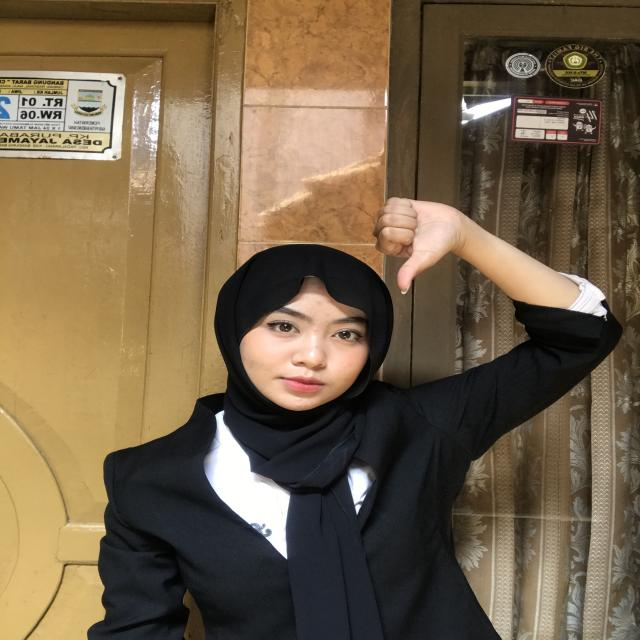sedih: (358, 191, 486, 317)
